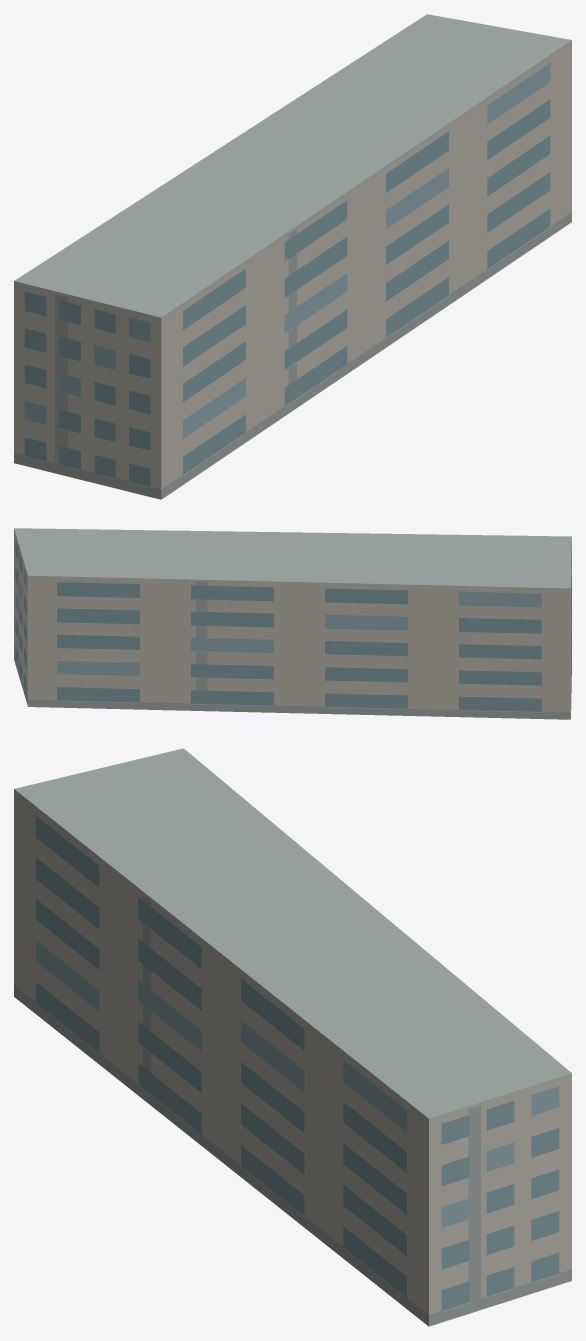
Rendered from residential-8f837eb0-623f-4371-b54e-5e4079f2d521.glb.
3 renders of one model, top to bottom at view 1: azimuth 30°, elevation 25°; view 2: azimuth 150°, elevation 25°; view 3: azimuth 270°, elevation 25°, orthographic. The views are drawn at different scales.
Visible parts, largest first — view 1: residential-8f837eb0-623f-4371-b54e-5e4079f2d521.tmp; view 2: residential-8f837eb0-623f-4371-b54e-5e4079f2d521.tmp; view 3: residential-8f837eb0-623f-4371-b54e-5e4079f2d521.tmp.
Boxes of the visible parts, x1,y1,x2,y2 form: residential-8f837eb0-623f-4371-b54e-5e4079f2d521.tmp: (14,14,571,499); residential-8f837eb0-623f-4371-b54e-5e4079f2d521.tmp: (14,528,571,719); residential-8f837eb0-623f-4371-b54e-5e4079f2d521.tmp: (14,748,571,1326).
Bounding box in the file's own units: 58.3 × 15.25 × 37.1.
